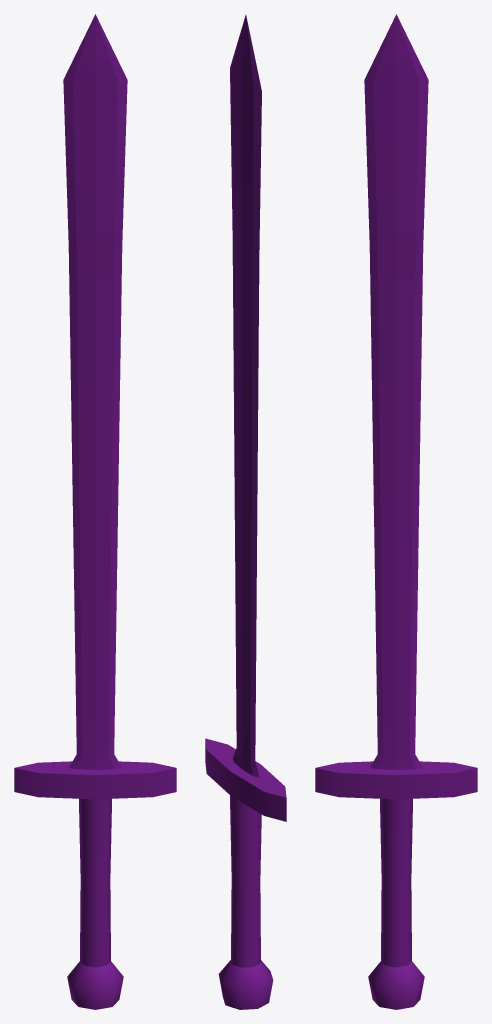
The model's file is Human_Sword.fbx.
3 views of the same model, side by side, from view 1: azimuth 90°, elevation 25°; view 2: azimuth 210°, elevation 25°; view 3: azimuth 270°, elevation 25° (orthographic).
Visible parts, largest first — view 1: HumanSword; view 2: HumanSword; view 3: HumanSword.
Part boxes in pixels (x1,y1,x2,y2): HumanSword: [14, 14, 176, 1009]; HumanSword: [205, 15, 286, 1009]; HumanSword: [315, 14, 477, 1009].
Bounding box in the file's own units: 4.97 × 95.6 × 14.26.
